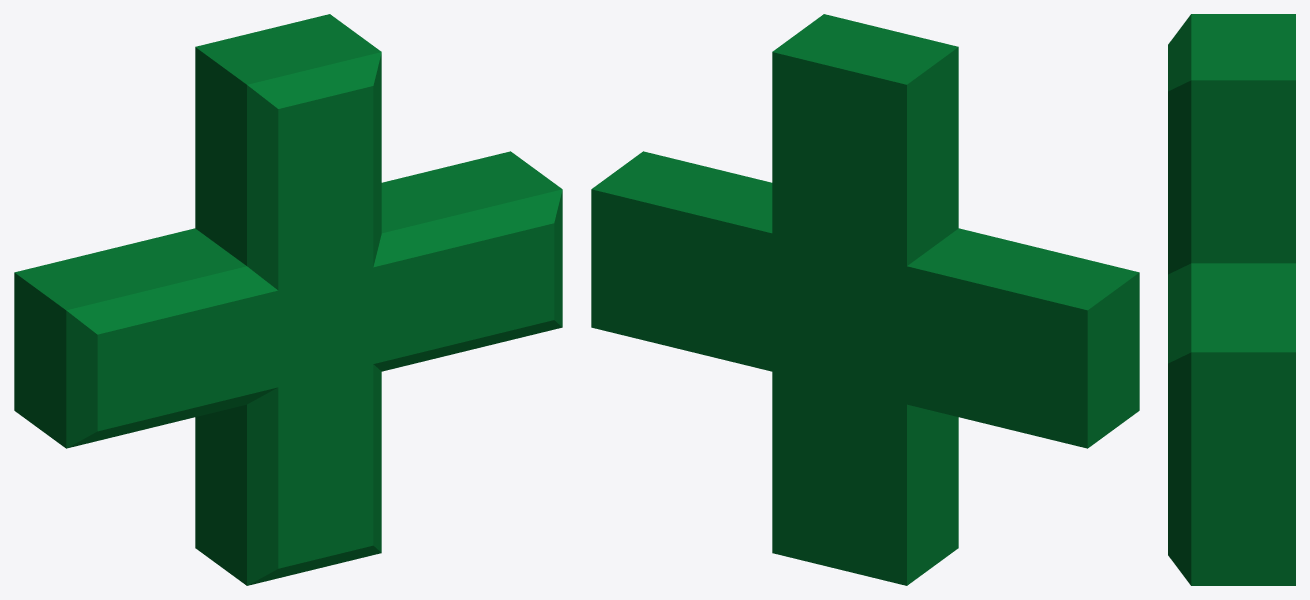
The model's file is Plus.fbx.
3 views of the same model, side by side, from view 1: azimuth 30°, elevation 25°; view 2: azimuth 150°, elevation 25°; view 3: azimuth 270°, elevation 25° (orthographic).
Parts seen in each view (by area): view 1: Plus; view 2: Plus; view 3: Plus.
Part boxes in pixels (left/top/right/bottom): Plus: left=14, top=14, right=562, bottom=585; Plus: left=591, top=14, right=1139, bottom=585; Plus: left=1168, top=14, right=1295, bottom=585.
Size of the model in its own units: 1.13 by 1.09 by 0.2499.
